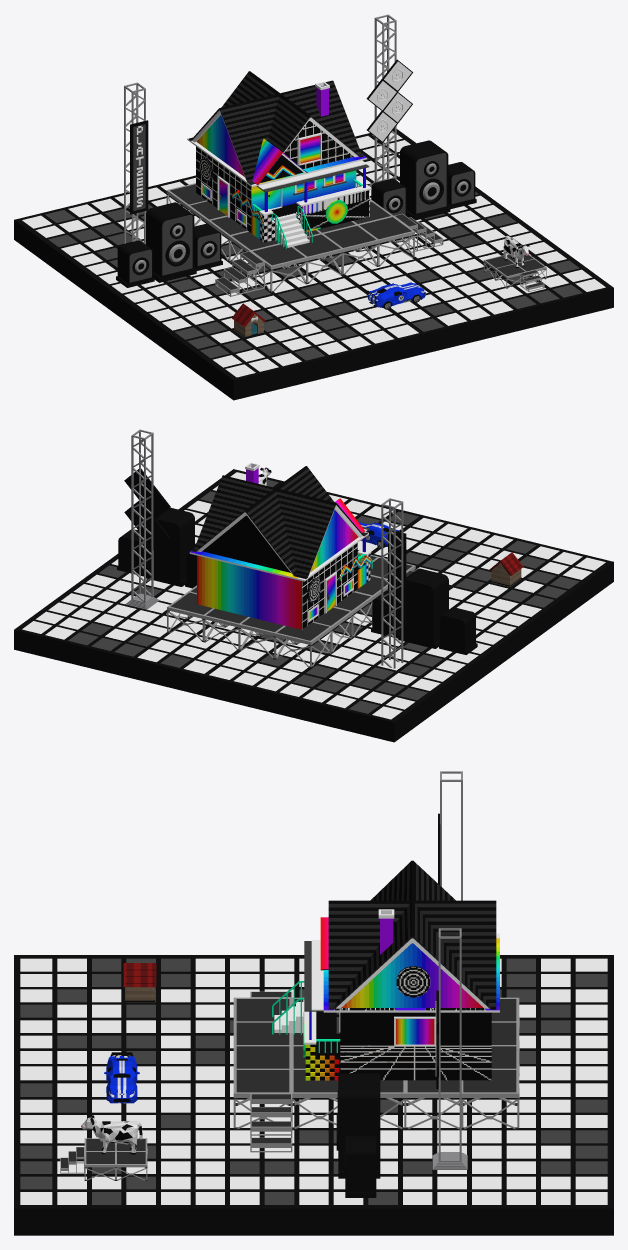
3 renders of one model, top to bottom at view 1: azimuth 30°, elevation 25°; view 2: azimuth 150°, elevation 25°; view 3: azimuth 270°, elevation 25°, orthographic. The views are drawn at different scales.
Parts seen in each view (by area): view 1: Cube.008, Cube.1320, VEHICLES_RACING_CAR, OBJRANDOM_DOGHOUSE; view 2: Cube.008, Cube.1320, OBJRANDOM_DOGHOUSE, VEHICLES_RACING_CAR; view 3: Cube.008, Cube.1320, VEHICLES_RACING_CAR, ANIMAL_VACA, OBJRANDOM_DOGHOUSE.
Boxes of the visible parts, bbox=[...] form: Cube.008: bbox=[14, 14, 613, 400]; Cube.1320: bbox=[187, 71, 371, 248]; VEHICLES_RACING_CAR: bbox=[367, 282, 425, 309]; OBJRANDOM_DOGHOUSE: bbox=[232, 303, 265, 337]; Cube.008: bbox=[14, 429, 613, 742]; Cube.1320: bbox=[189, 462, 372, 629]; OBJRANDOM_DOGHOUSE: bbox=[489, 552, 523, 586]; VEHICLES_RACING_CAR: bbox=[358, 521, 400, 548]; Cube.008: bbox=[14, 771, 613, 1235]; Cube.1320: bbox=[272, 860, 499, 1080]; VEHICLES_RACING_CAR: bbox=[104, 1052, 139, 1103]; ANIMAL_VACA: bbox=[81, 1115, 142, 1154]; OBJRANDOM_DOGHOUSE: bbox=[123, 963, 156, 1001].
Bounding box in the file's own units: 4000 × 1922 × 4000.
37 materials, 4 textured.
